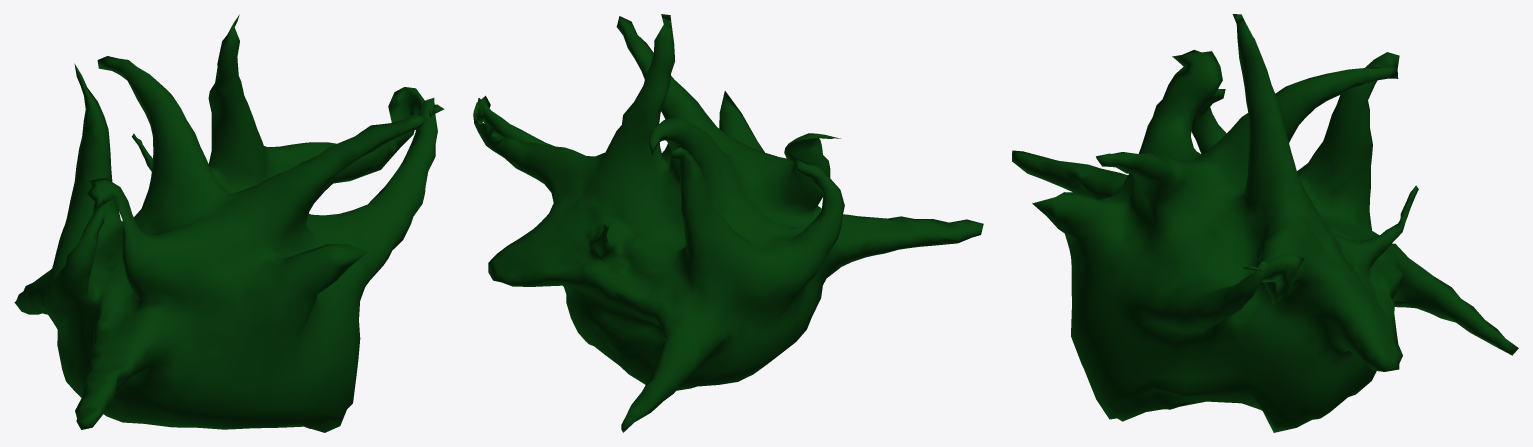
The model's file is jump_cthulhu_0018.obj.
3 views of the same model, side by side, from view 1: azimuth 30°, elevation 25°; view 2: azimuth 150°, elevation 25°; view 3: azimuth 270°, elevation 25° (orthographic). The views are drawn at different scales.
Parts seen in each view (by area): view 1: Cube; view 2: Cube; view 3: Cube.
Boxes of the visible parts, left/top/right/bottom form: Cube: left=14, top=14, right=444, bottom=432; Cube: left=473, top=14, right=983, bottom=432; Cube: left=1012, top=14, right=1518, bottom=432.
Bounding box in the file's own units: 1.2 × 0.9459 × 1.08.
